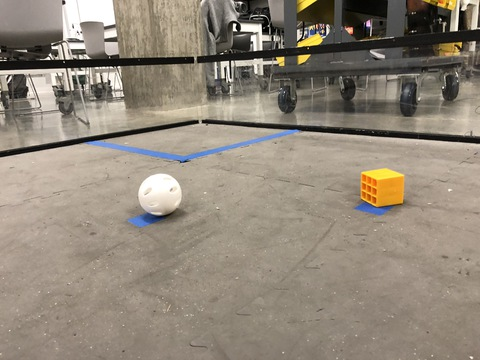ball: (131, 169, 194, 219)
block: (351, 164, 415, 221)
